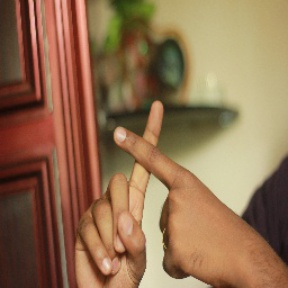X: (87, 86, 213, 236)
